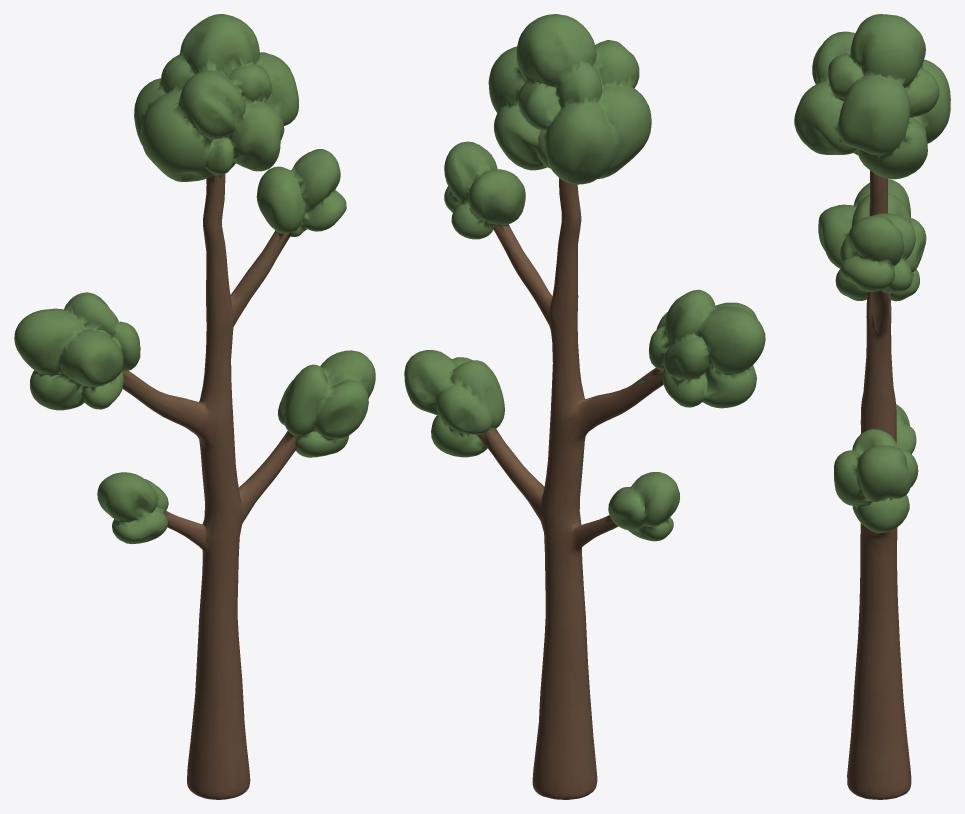
The model's file is oak-2.glb.
The picture shows the model from 3 angles, left to right: view 1: azimuth 30°, elevation 25°; view 2: azimuth 150°, elevation 25°; view 3: azimuth 270°, elevation 25°; orthographic projection.
Size of the model in its own units: 0.9153 by 1.9 by 0.3481.
Materials: 1 (1 with a texture image).
